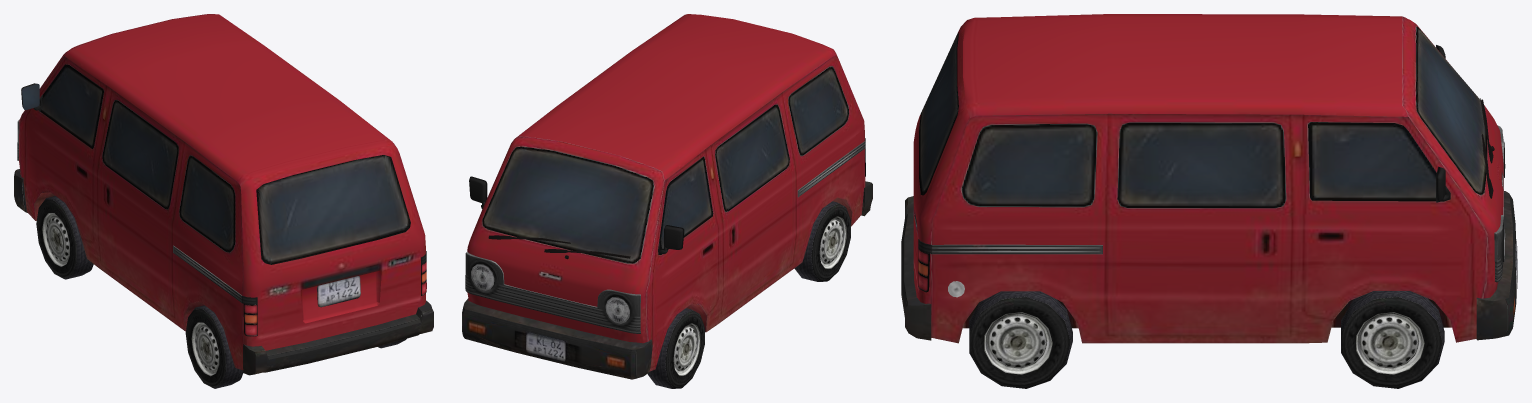
Rendered from v_van.glb.
3 renders of one model, left to right at view 1: azimuth 30°, elevation 25°; view 2: azimuth 150°, elevation 25°; view 3: azimuth 270°, elevation 25°, orthographic. The views are drawn at different scales.
Visible parts, largest first — view 1: Cube_body_0, Cube_glass_0, Cube_plastic_0, Cylinder.001_tires_0; view 2: Cube_body_0, Cube_glass_0, Cube_plastic_0, Cylinder.001_tires_0; view 3: Cube_body_0, Cube_glass_0, Cylinder.001_tires_0, Cube_plastic_0.
Part boxes in pixels (x1,y1,x2,y2): Cube_body_0: [19, 14, 425, 376]; Cube_glass_0: [22, 64, 410, 264]; Cube_plastic_0: [14, 83, 433, 375]; Cylinder.001_tires_0: [36, 196, 406, 388]; Cube_body_0: [467, 14, 865, 375]; Cube_glass_0: [471, 66, 849, 323]; Cube_plastic_0: [462, 138, 872, 379]; Cylinder.001_tires_0: [647, 201, 850, 388]; Cube_body_0: [913, 14, 1503, 374]; Cube_glass_0: [919, 26, 1505, 261]; Cylinder.001_tires_0: [969, 291, 1444, 388]; Cube_plastic_0: [901, 45, 1517, 340].
Size of the model in its own units: 2.03 by 2 by 3.98.
4 materials, 4 textured.
